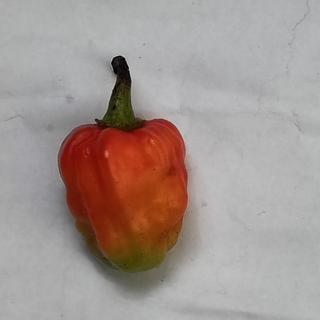Grade-A: (58, 116, 190, 277)
